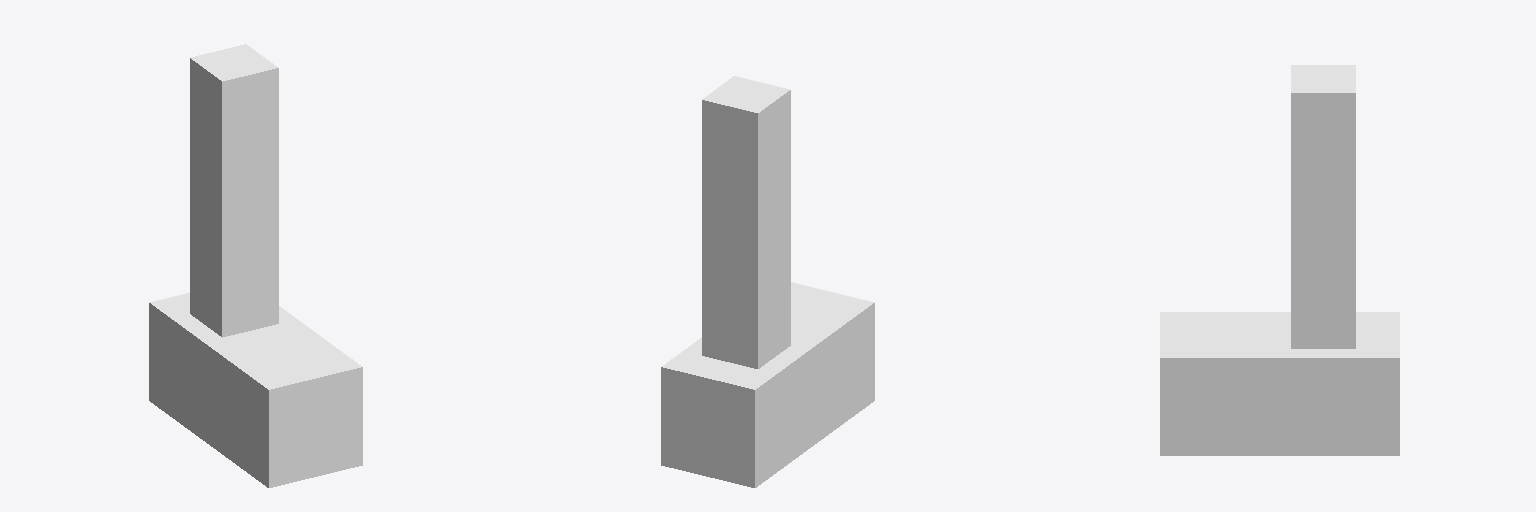
Rendered from scourge_pierna.obj.
3 renders of one model, left to right at view 1: azimuth 30°, elevation 25°; view 2: azimuth 150°, elevation 25°; view 3: azimuth 270°, elevation 25°, orthographic.
Visible parts, largest first — view 1: object 1; view 2: object 1; view 3: object 1.
Part boxes in pixels (left/top/right/bottom): object 1: left=149, top=44, right=362, bottom=487; object 1: left=661, top=76, right=874, bottom=487; object 1: left=1160, top=65, right=1399, bottom=455.
Bounding box in the file's own units: 1 × 3.6 × 2.2.